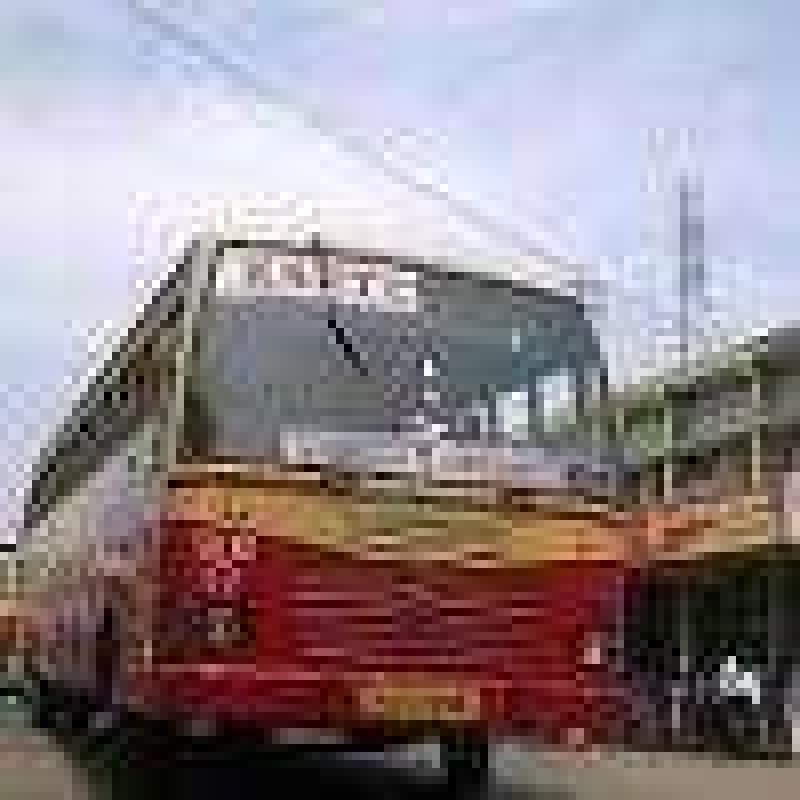bus: (70, 154, 653, 788)
